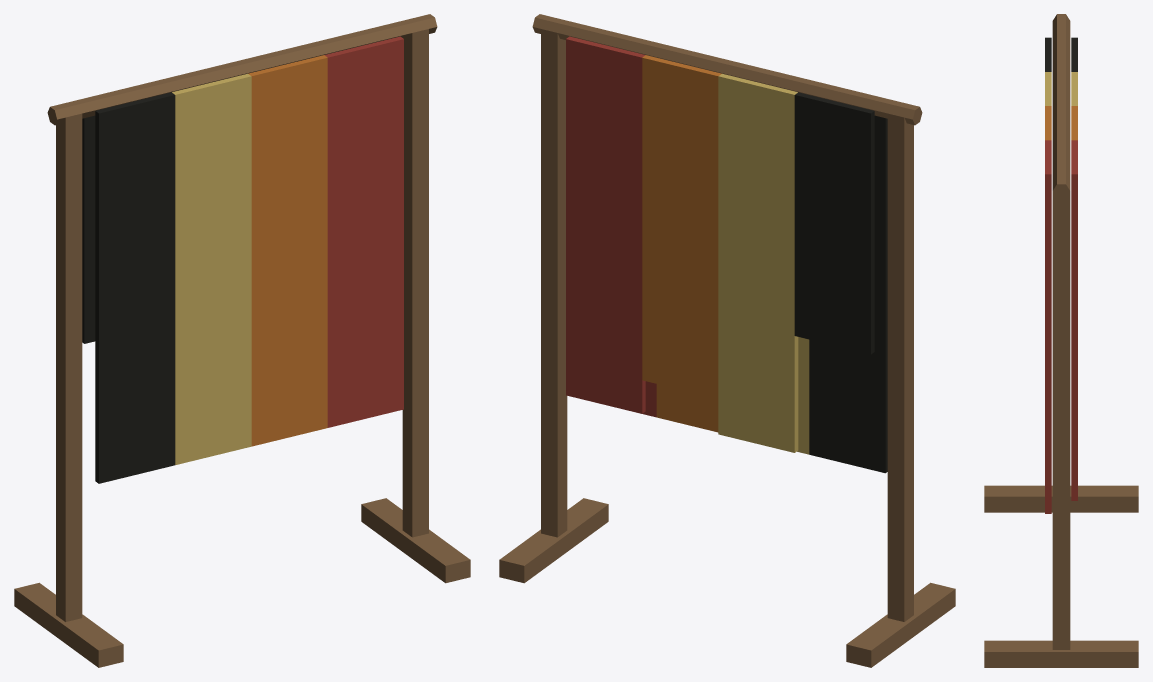
Rendered from kente-throw-roll-24.glb.
3 views of the same model, side by side, from view 1: azimuth 30°, elevation 25°; view 2: azimuth 150°, elevation 25°; view 3: azimuth 270°, elevation 25° (orthographic). The views are drawn at different scales.
Visible parts, largest first — view 1: kente_throw_roll_24; view 2: kente_throw_roll_24; view 3: kente_throw_roll_24.
Boxes of the visible parts, <box> form: kente_throw_roll_24: <box>14,14,470,667</box>; kente_throw_roll_24: <box>499,14,955,667</box>; kente_throw_roll_24: <box>984,14,1138,667</box>.
Size of the model in its own units: 0.9115 by 1.21 by 0.35.
